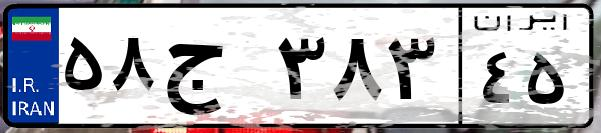3: (270, 28, 330, 110), (385, 28, 445, 110)
4: (475, 38, 525, 113)
5: (57, 26, 110, 100), (525, 38, 570, 115)
8: (330, 28, 385, 110), (110, 28, 158, 98)
ج: (158, 20, 270, 120)
